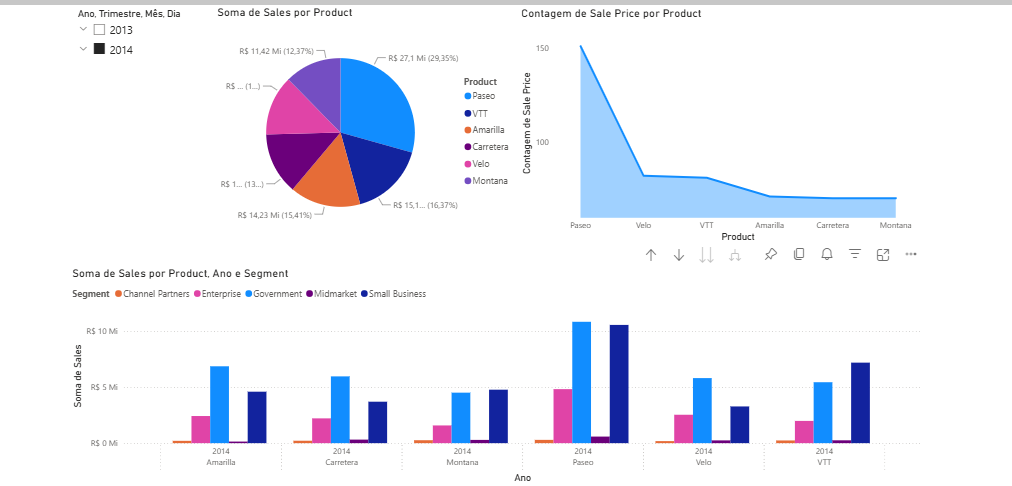

Layout of this report page (visuals, bound fields, positions):
{"tool":"powerbi","page":{"name":"Visão Geral","canvas":[1280,720],"ordinal":0},"visuals":[{"type":"pieChart","fields":{"Category":["financials.Product"],"Y":["Sum(financials. Sales)"]},"box":[216.4,0,455.7,360.7],"z":0},{"type":"lineChart","fields":{"Category":["financials.Product"],"Y":["CountNonNull(financials.Sale Price)"]},"box":[672.1,1.6,608.2,359],"z":1},{"type":"clusteredColumnChart","fields":{"Category":["financials.Product","financials.Date.Variation.Hierarquia de datas.Ano"],"Y":["Sum(financials. Sales)"],"Series":["financials.Segment"]},"box":[0,390.2,1280.3,329.5],"z":2},{"type":"slicer","fields":{"Values":["financials.Date.Variation.Hierarquia de datas.Ano","financials.Date.Variation.Hierarquia de datas.Trimestre","financials.Date.Variation.Hierarquia de datas.Mês","financials.Date.Variation.Hierarquia de datas.Dia"]},"box":[0,0,216.4,360.7],"z":3}]}

Visuals, with their boxes on the page's 1280x720 design canvas (x1, y1, x2, y2). These are canvas units, not pixel positions in the 1012x486 screenshot, which may show the page scaled, cropped or inside an application window:
pieChart - financials.Product x Sum(financials. Sales): [x1=216, y1=0, x2=672, y2=361]
lineChart - financials.Product x CountNonNull(financials.Sale Price): [x1=672, y1=2, x2=1280, y2=361]
clusteredColumnChart - financials.Product x financials.Date.Variation.Hierarquia de datas.Ano: [x1=0, y1=390, x2=1280, y2=720]
slicer - financials.Date.Variation.Hierarquia de datas.Ano x financials.Date.Variation.Hierarquia de datas.Trimestre: [x1=0, y1=0, x2=216, y2=361]
